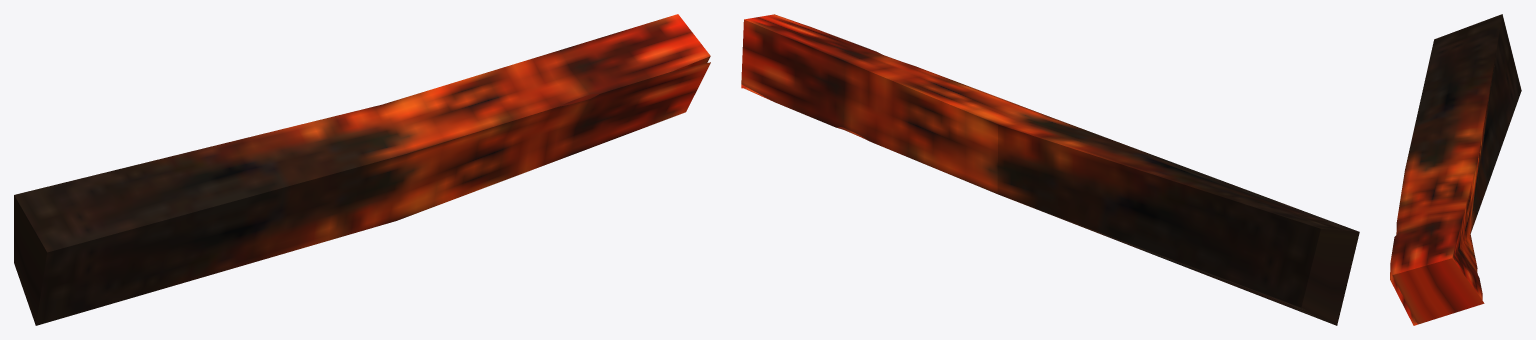
The model's file is ranshaomugun.FBX.
3 renders of one model, left to right at view 1: azimuth 30°, elevation 25°; view 2: azimuth 150°, elevation 25°; view 3: azimuth 270°, elevation 25°, orthographic. The views are drawn at different scales.
Visible parts, largest first — view 1: ranshaomugun; view 2: ranshaomugun; view 3: ranshaomugun.
Part boxes in pixels (left/top/right/bottom): ranshaomugun: left=14, top=14, right=710, bottom=325; ranshaomugun: left=741, top=14, right=1359, bottom=325; ranshaomugun: left=1390, top=14, right=1521, bottom=325.
Size of the model in its own units: 4.58 by 0.8962 by 1.11.
